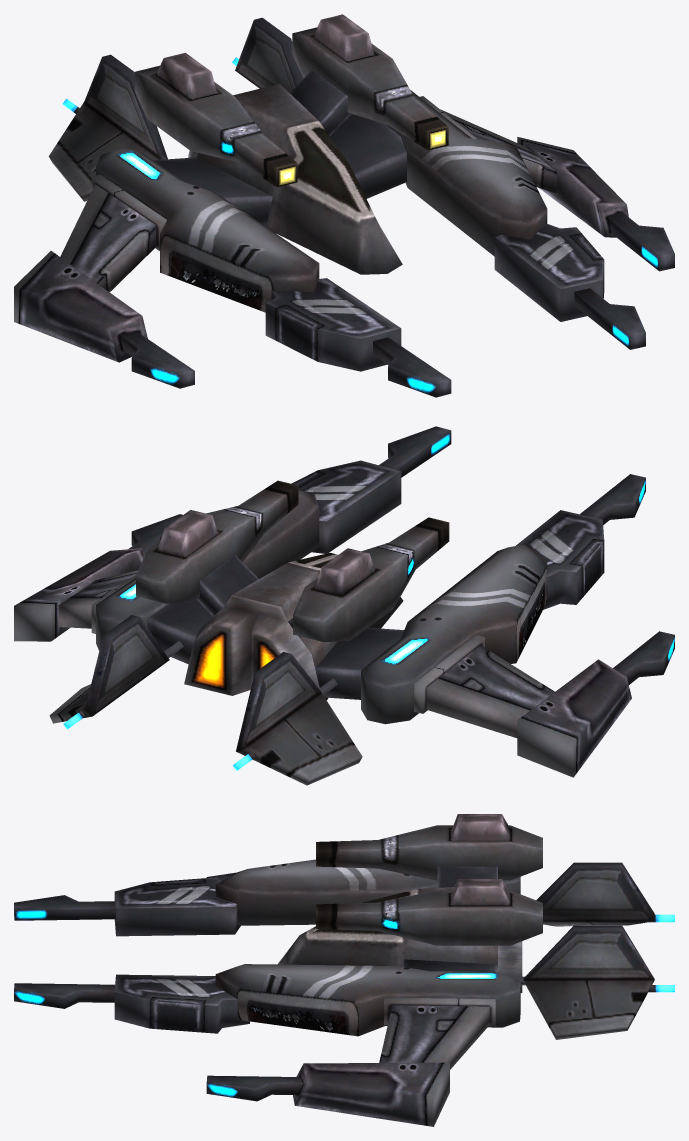
Rendered from PredatorFighter.glb.
3 views of the same model, one above another, from view 1: azimuth 30°, elevation 25°; view 2: azimuth 150°, elevation 25°; view 3: azimuth 270°, elevation 25° (orthographic). The views are drawn at different scales.
Visible parts, largest first — view 1: Mesh, Mesh.001; view 2: Mesh, Mesh.001; view 3: Mesh.001, Mesh.
Boxes of the visible parts, box(x1,y1,x2,y2) form: Mesh: box(14, 52, 451, 397); Mesh.001: box(232, 14, 674, 349); Mesh: box(184, 474, 674, 785); Mesh.001: box(14, 426, 451, 729); Mesh.001: box(14, 879, 674, 1126); Mesh: box(14, 814, 674, 992).
Bounding box in the file's own units: 1.69 × 0.5428 × 2.03.
Materials: 2 (2 with a texture image).
